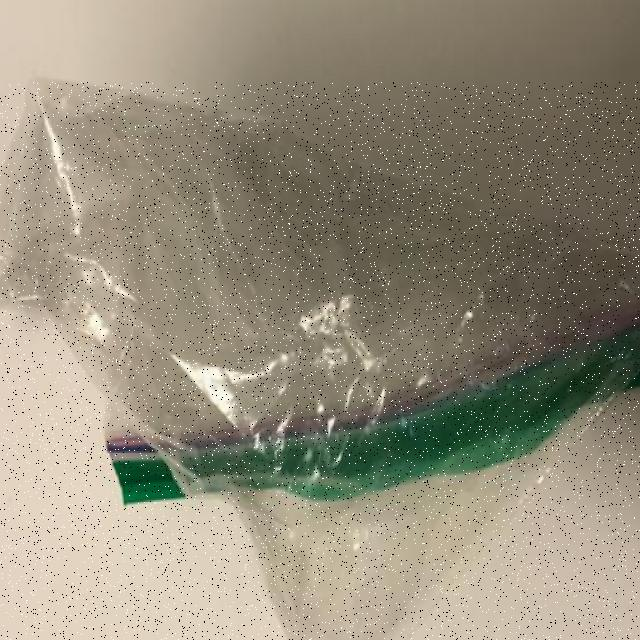plastic: (0, 82, 640, 640)
